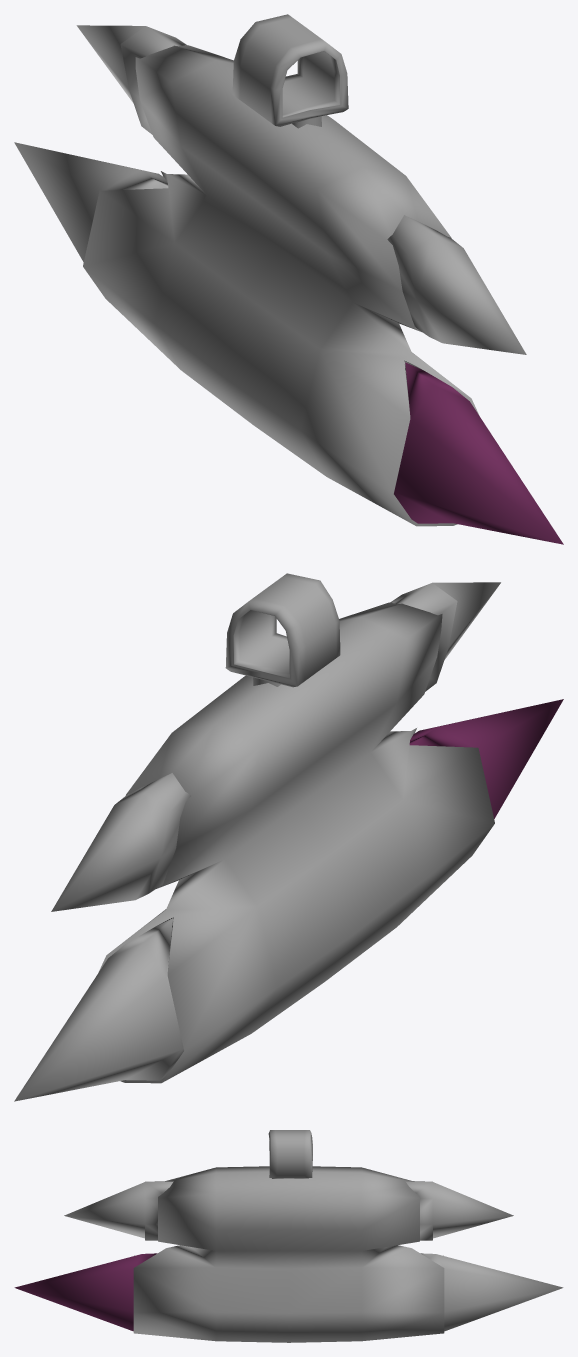
Rendered from zipper_print_pink.gltf.
3 views of the same model, one above another, from view 1: azimuth 30°, elevation 25°; view 2: azimuth 150°, elevation 25°; view 3: azimuth 270°, elevation 25° (orthographic). The views are drawn at different scales.
Parts seen in each view (by area): view 1: 큐브.004; view 2: 큐브.004; view 3: 큐브.004.
Part boxes in pixels (left/top/right/bottom): 큐브.004: left=14, top=14, right=563, bottom=544; 큐브.004: left=14, top=573, right=563, bottom=1101; 큐브.004: left=14, top=1130, right=563, bottom=1342.
Bounding box in the file's own units: 1.04 × 2.86 × 7.31.
